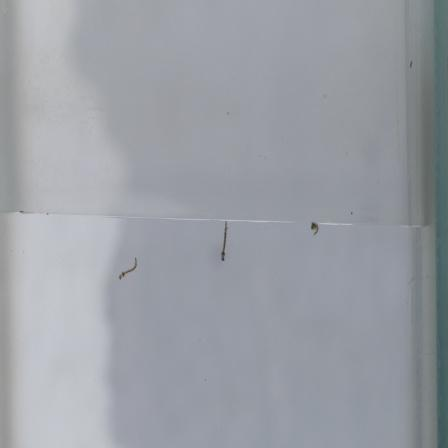Jentik-Nyamuk: (213, 217, 237, 268), (116, 254, 145, 284), (306, 219, 322, 240)
